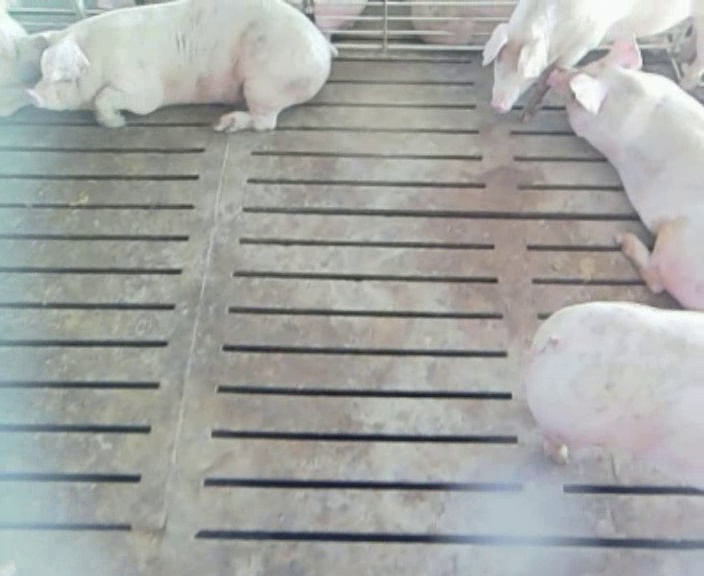pig: (549, 37, 703, 309), (27, 2, 332, 129), (483, 2, 690, 122)
